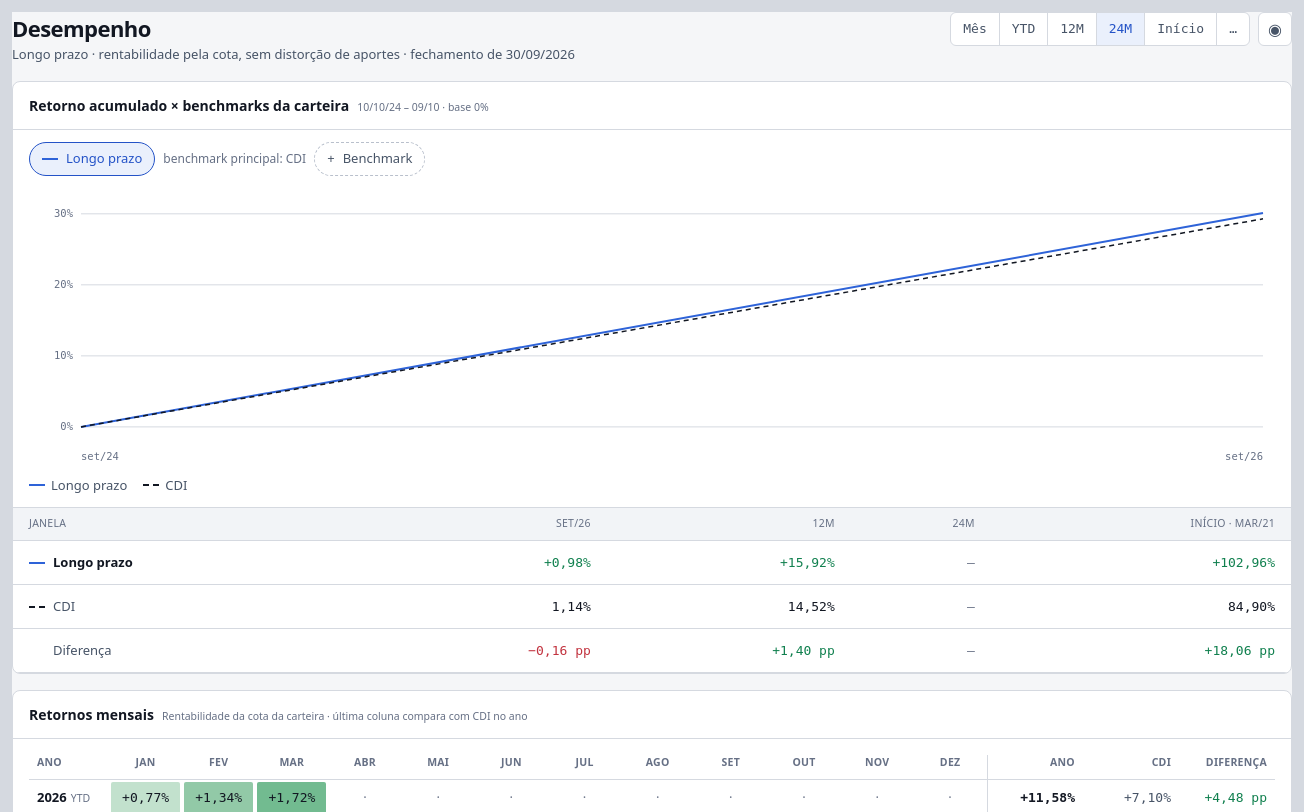
Test case: benchmarks na tela › diz qual é o principal e oferece os que faltam
Expected: the text "benchmark principal: CDI" is shown, [163,150,306,168]
What coordinates should you click on to do the following:
click the button "+ Benchmark"
I would click on:
 (370, 158)
Its box is [314,142,426,176].
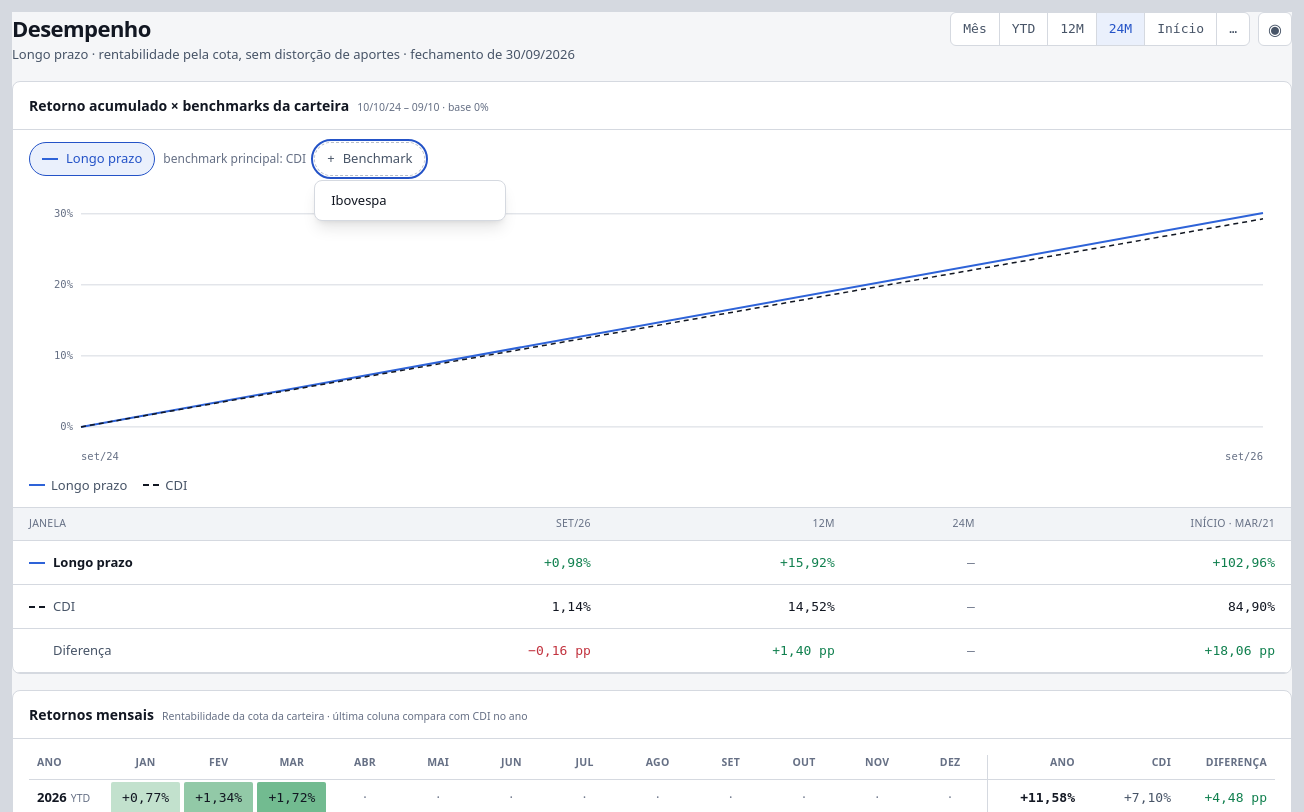
Expected: the menu item "Ibovespa" is shown, [319,184,501,216]
